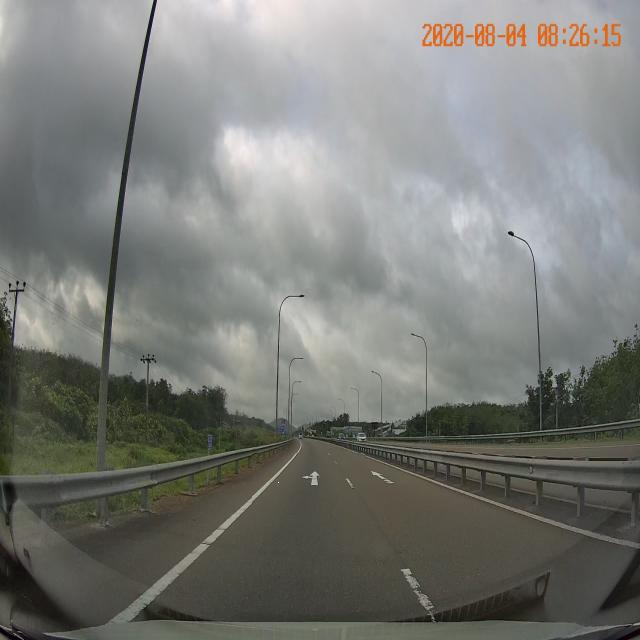forward_lft: (253, 453, 365, 502)
